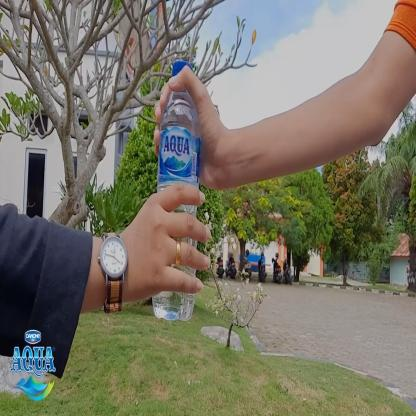plastic_bottles: (150, 59, 206, 325)
